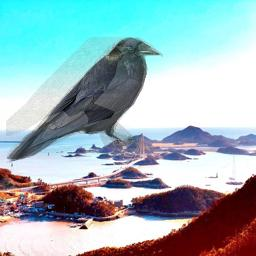Crow: (6, 37, 163, 163)
